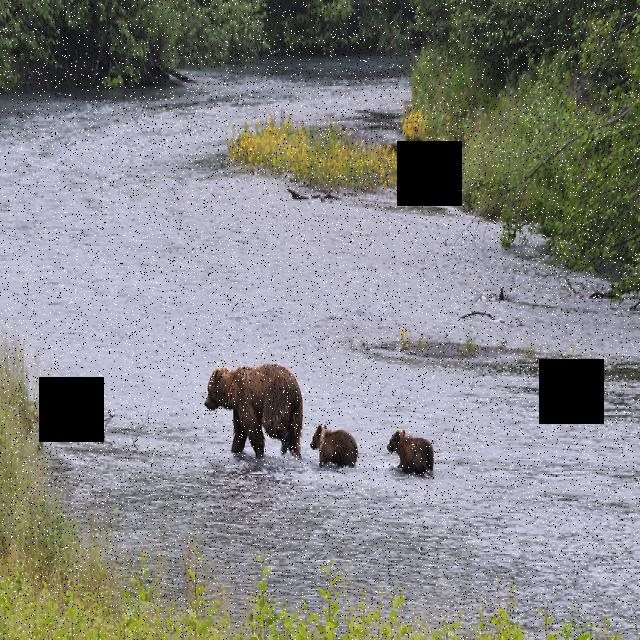Bear: (203, 358, 307, 467), (383, 422, 437, 476), (310, 419, 361, 470)
